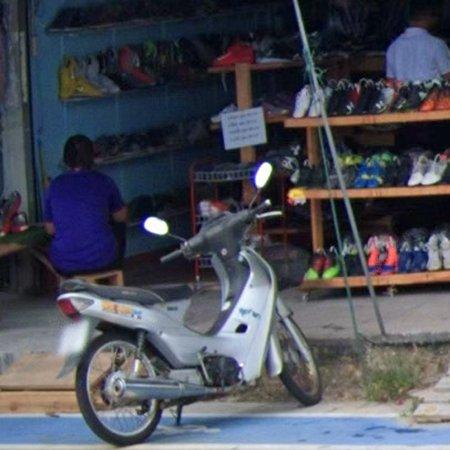motorcycles: (57, 163, 324, 447)
